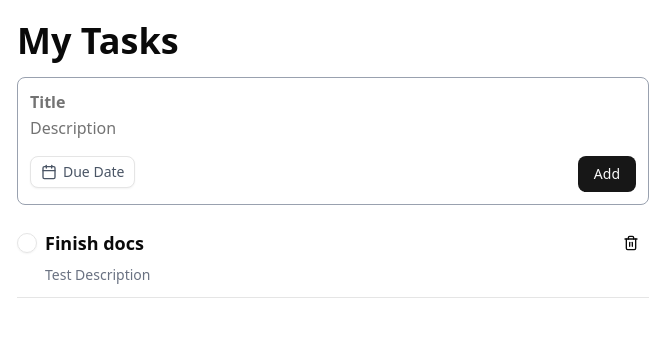
App › completes a task and shows it under Completed Tasks
Expected: the heading "My Tasks" is shown, top-left (17, 16), bottom-right (179, 65)
Expected: the text "Finish docs" is shown, top-left (45, 231), bottom-right (144, 255)
What coordinates should you click on to do the following:
click the checkbox named "mark as completed"
I would click on:
 (27, 243)
Its box is top-left (17, 233), bottom-right (37, 253).
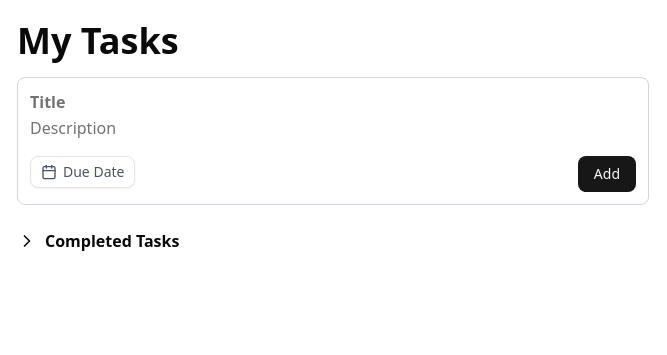
# Now the task moves to the Completed Tasks section
What coordinates should you click on to do the following:
click the button "Completed Tasks"
I would click on:
 (112, 241)
Its box is top-left (17, 229), bottom-right (649, 253).
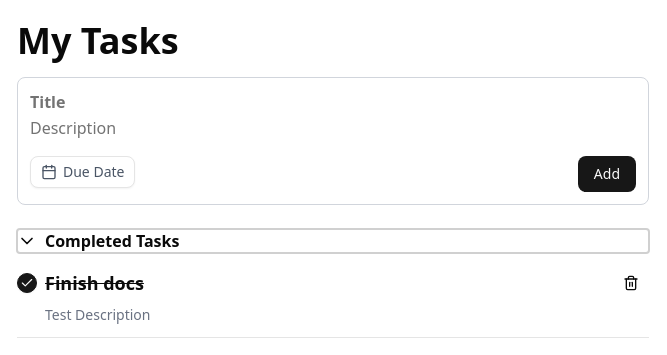
Result: the text "Finish docs" is shown at top-left (45, 271), bottom-right (144, 295)
Result: the checkbox named "mark as completed" is checked at top-left (17, 273), bottom-right (37, 293)
